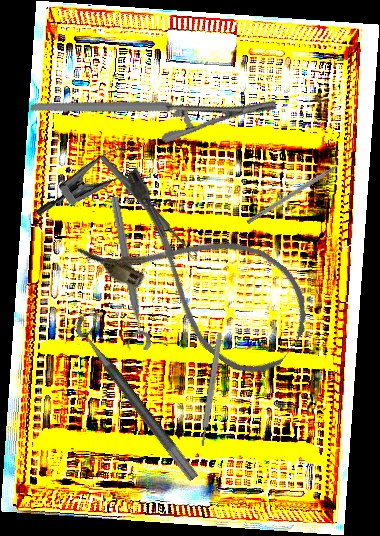Cannula: (73, 161, 328, 390)
Fixation Ring: (69, 306, 213, 483), (97, 195, 153, 354)
Hook Surgical: (245, 154, 354, 226)
Needle Holder: (29, 24, 280, 187)
Scalpel Handle: (198, 332, 224, 447)
Speculum: (33, 121, 164, 254)
Surgical Spoon: (98, 153, 199, 261)
